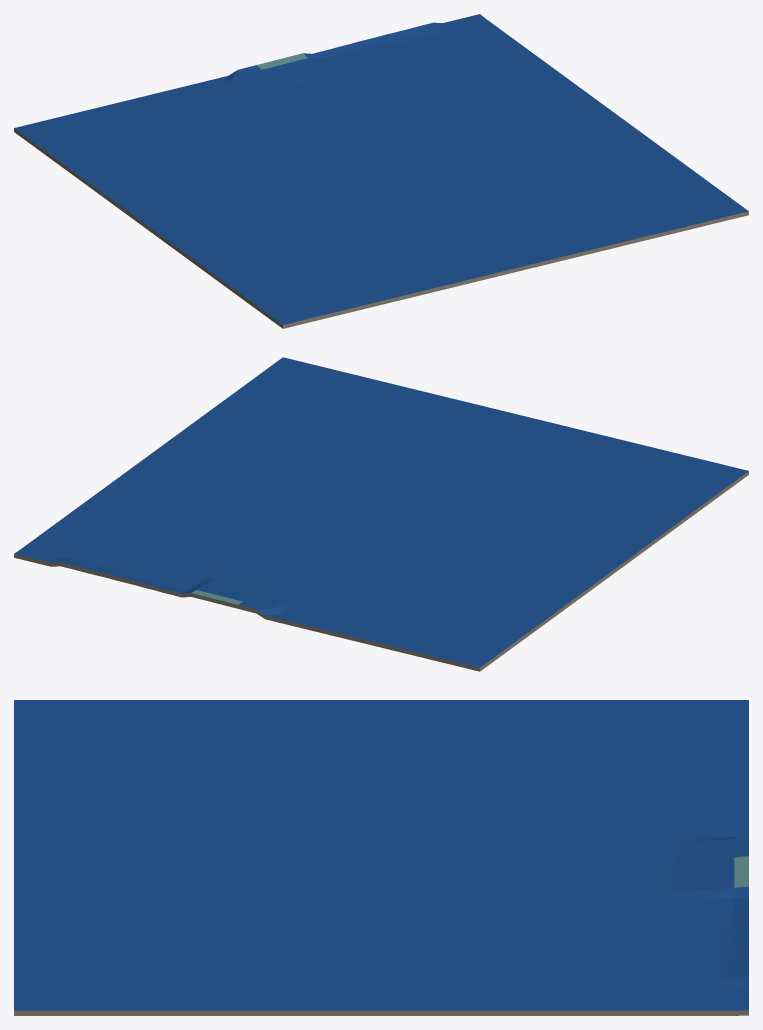
File: parca_+2_-10-uzak.glb
3 renders of one model, top to bottom at view 1: azimuth 30°, elevation 25°; view 2: azimuth 150°, elevation 25°; view 3: azimuth 270°, elevation 25°, orthographic. The views are drawn at different scales.
Visible parts, largest first — view 1: parca_+2_-10_arazi_uzak; view 2: parca_+2_-10_arazi_uzak; view 3: parca_+2_-10_arazi_uzak.
Part boxes in pixels (left/top/right/bottom): parca_+2_-10_arazi_uzak: left=14, top=14, right=748, bottom=328; parca_+2_-10_arazi_uzak: left=14, top=357, right=748, bottom=671; parca_+2_-10_arazi_uzak: left=14, top=700, right=748, bottom=1015.
Size of the model in its own units: 1000 by 17.03 by 1000.
